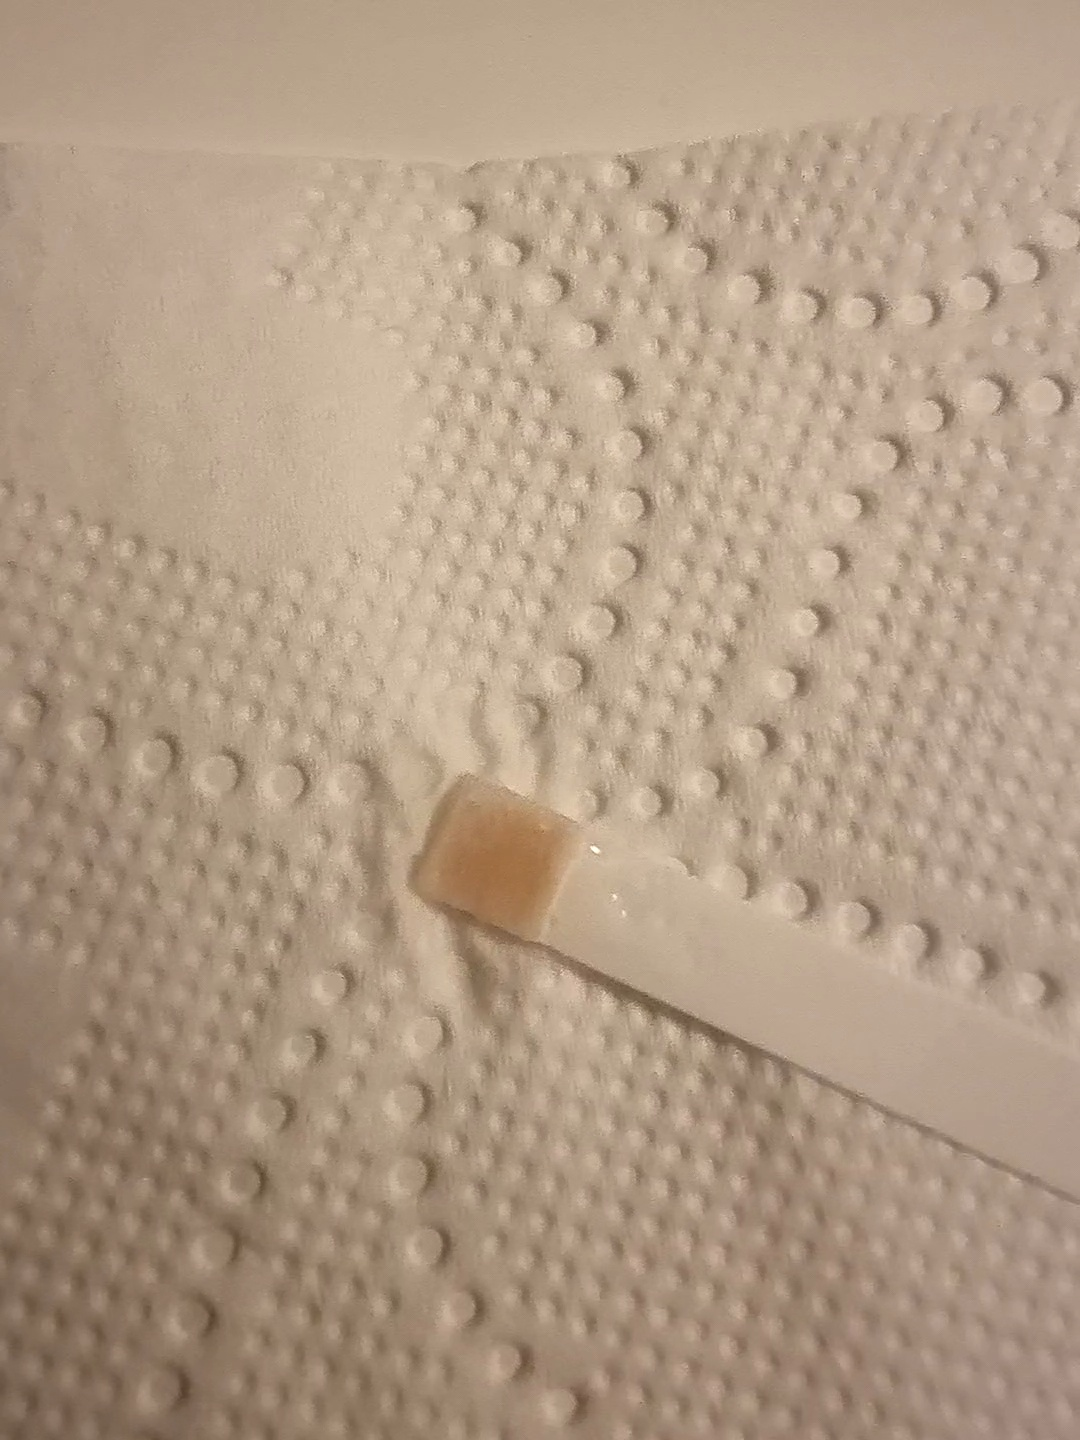keto-tip: (403, 768, 594, 948)
